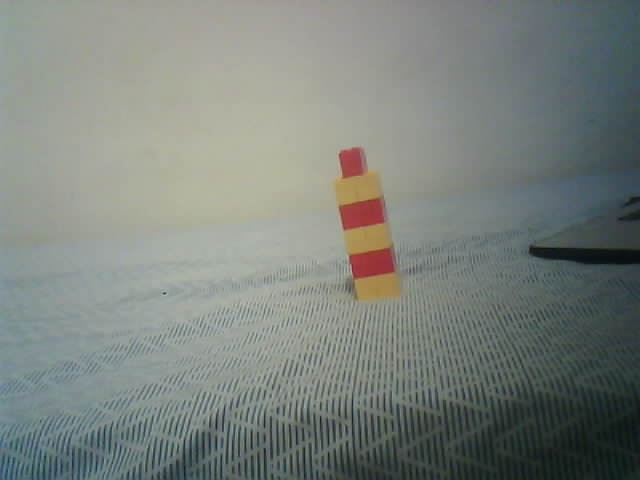lego: (332, 145, 400, 303)
